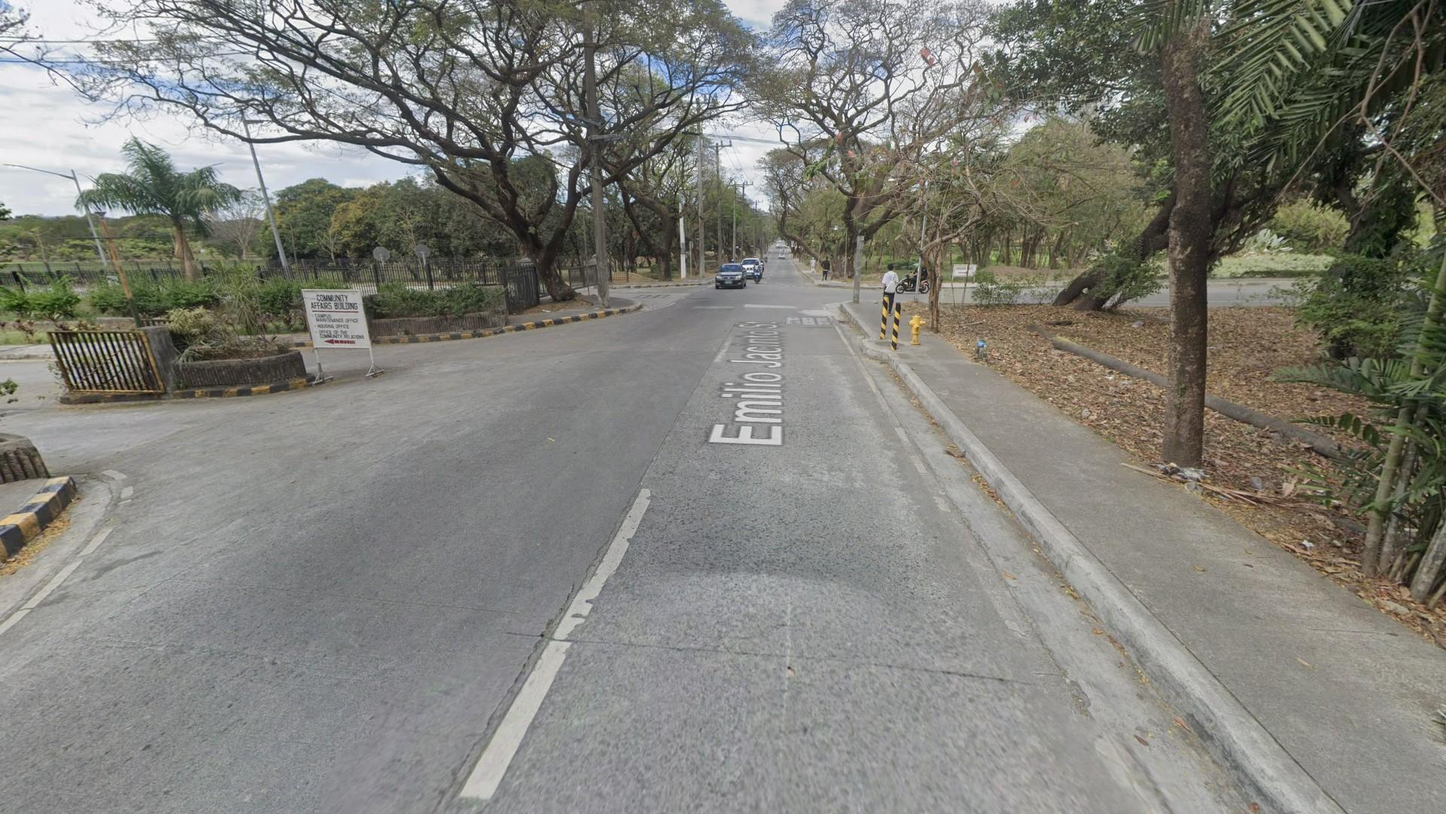pedestrian: (882, 263, 900, 317), (820, 256, 831, 282), (809, 256, 817, 274)
